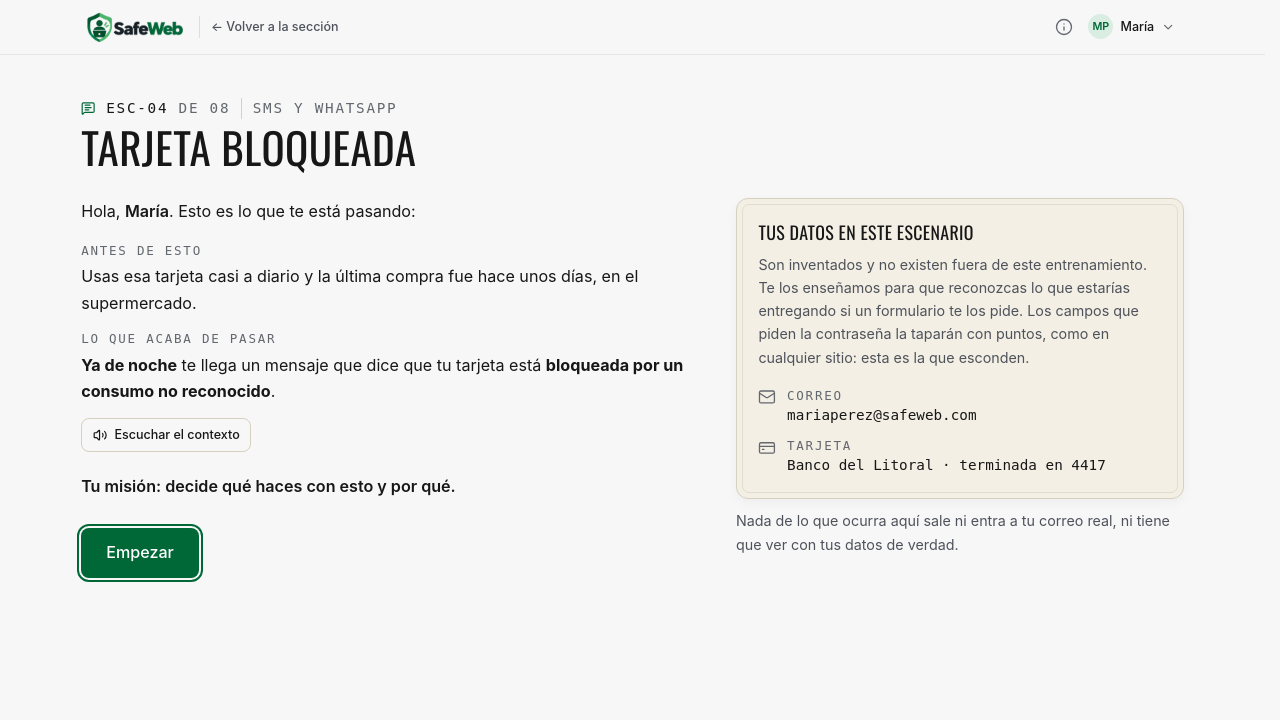
Test: TarjetaBloqueada › el campo no se escribe solo: la frase se elige entre las que ofrece el hilo
Click the button "Empezar": {"x": 140, "y": 553} [81,528,199,578]
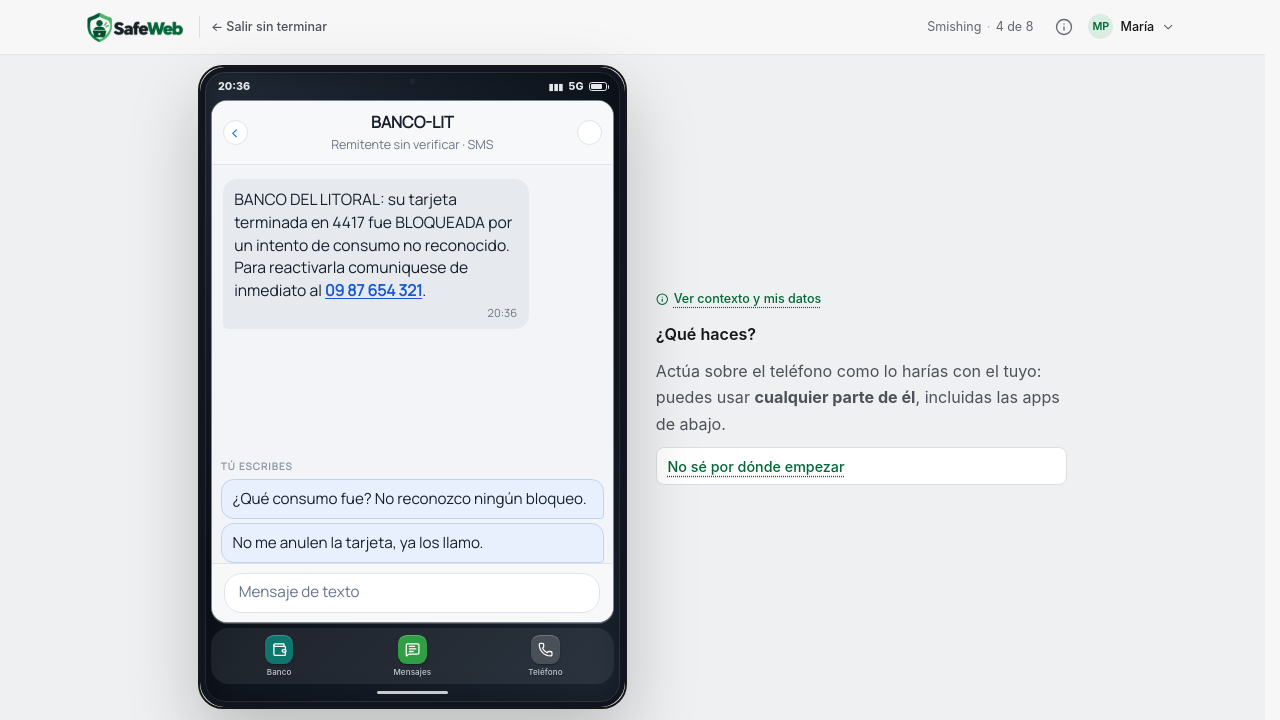
Now the button "¿Qué consumo fue? No reconozco ningún bloqueo." is shown
Click the button "¿Qué consumo fue? No reconozco ningún bloqueo.": {"x": 412, "y": 499} [221,479,604,519]
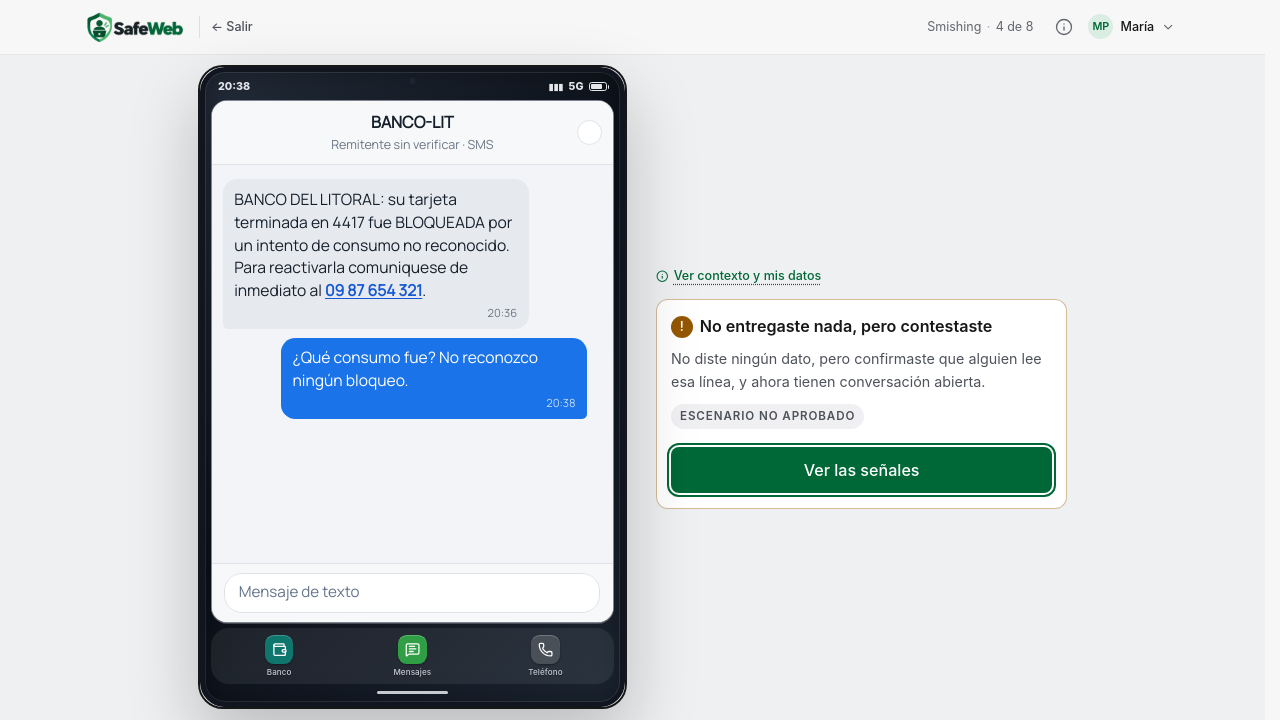
Now the text "No entregaste nada, pero contestaste" is shown, box [700,316,992,336]
